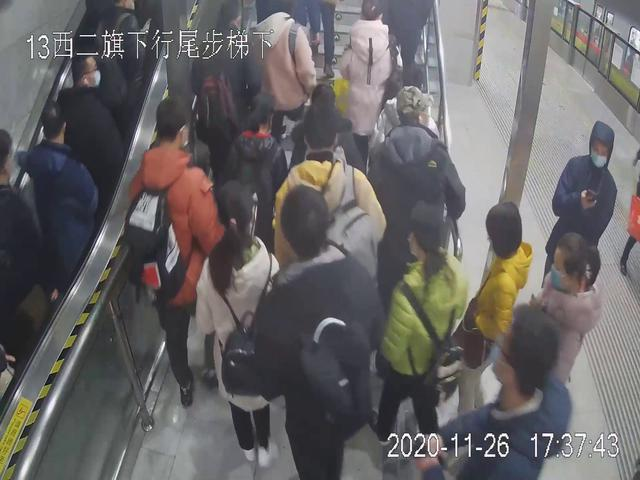person: (248, 187, 389, 480), (129, 97, 220, 400), (449, 201, 546, 418), (373, 84, 468, 301), (376, 208, 457, 448), (17, 98, 108, 311), (534, 239, 622, 458), (334, 4, 412, 176), (544, 120, 620, 288), (252, 11, 315, 179)
